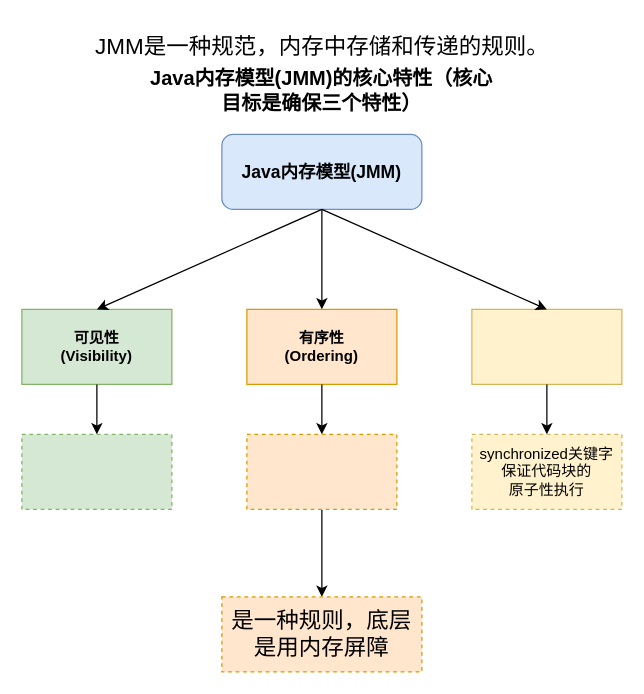
Some shapes in this 644 by 694 pixel diagram are drawn without their labels. Here are the shapes that lost their labels. From the top down, the centre of each, then its label:
At [546,346]: "原子性 (Atomicity)".
At [96,471]: "volatile关键字保证 多线程间变量修改的 即时可见性".
At [321,471]: "happens-before 保证跨线程的 有序性".
